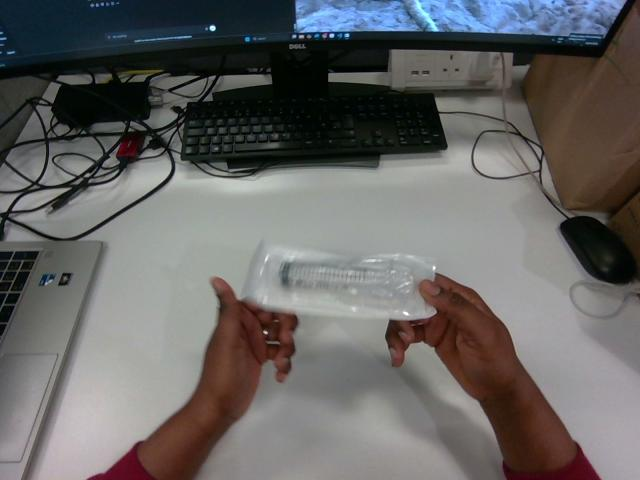syringe: (241, 242, 435, 319)
